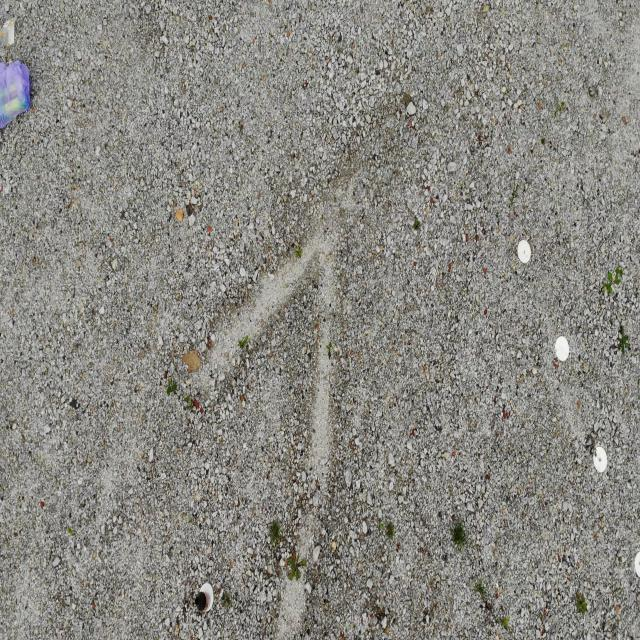rubbish: (0, 56, 29, 127), (0, 14, 17, 48), (193, 592, 208, 610)
